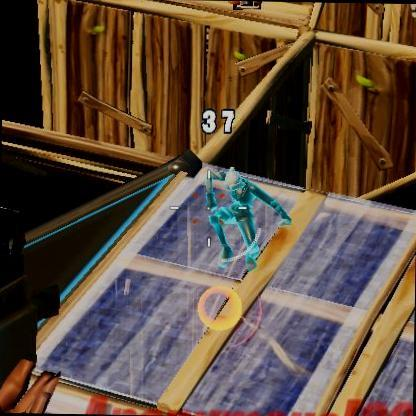person: (198, 170, 272, 274), (0, 233, 8, 254)
